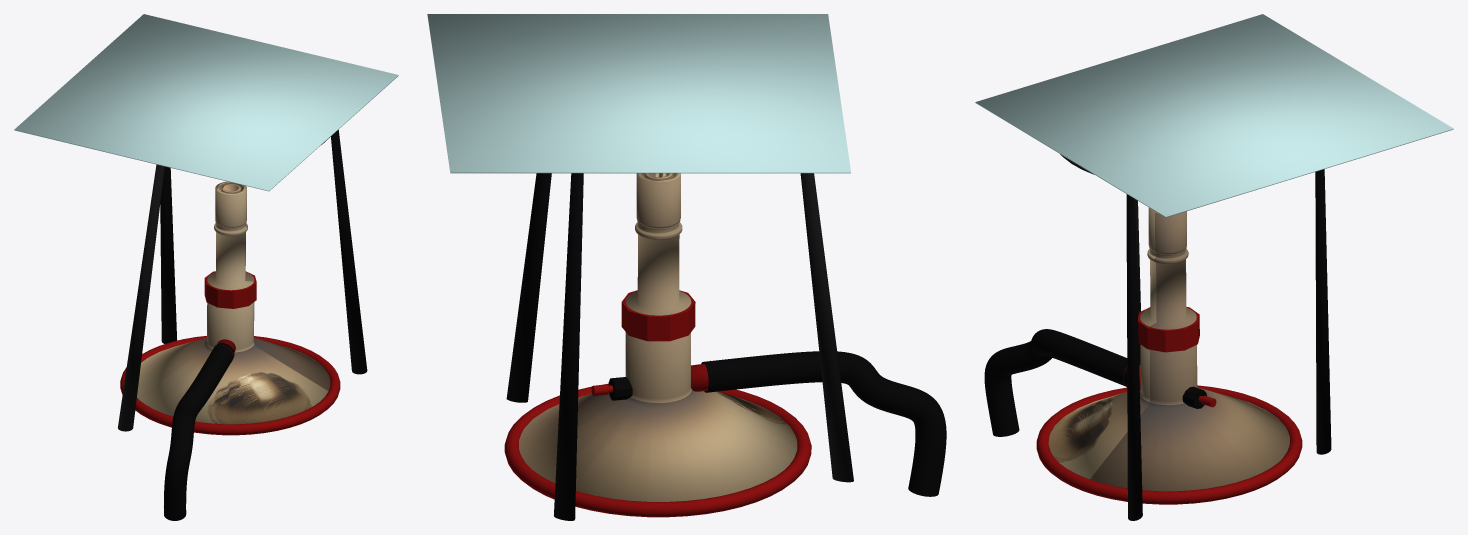
The model's file is bunsenBurnerDec19.glb.
3 views of the same model, side by side, from view 1: azimuth 30°, elevation 25°; view 2: azimuth 150°, elevation 25°; view 3: azimuth 270°, elevation 25° (orthographic). The views are drawn at different scales.
Parts seen in each view (by area): view 1: busernburnerDec19; view 2: busernburnerDec19; view 3: busernburnerDec19.
Boxes of the visible parts, x1=… form: busernburnerDec19: x1=14, y1=14, x2=398, y2=520; busernburnerDec19: x1=427, y1=14, x2=946, y2=520; busernburnerDec19: x1=975, y1=14, x2=1453, y2=520.
Bounding box in the file's own units: 0.1969 × 0.1797 × 0.1964.
9 materials, 1 textured.
